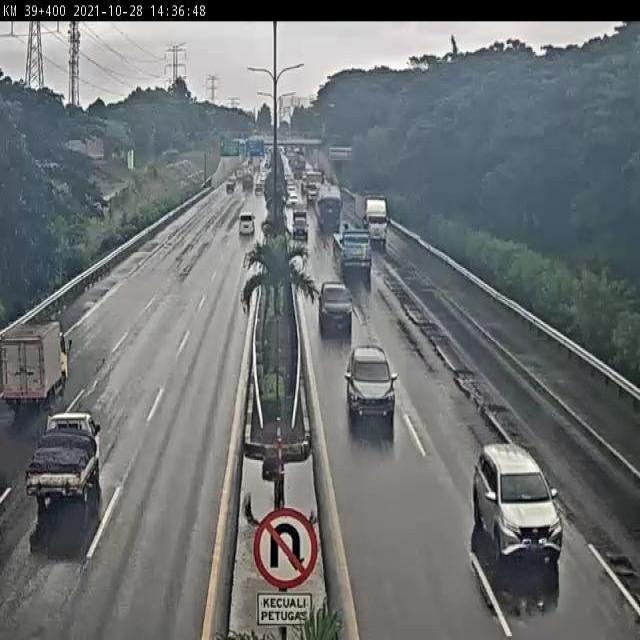big truck: (355, 195, 394, 242), (337, 229, 372, 271)
car: (481, 443, 558, 557), (348, 326, 403, 442), (316, 276, 356, 357), (238, 211, 255, 236), (297, 220, 312, 243)
small truck: (42, 419, 110, 508), (3, 326, 68, 406)
